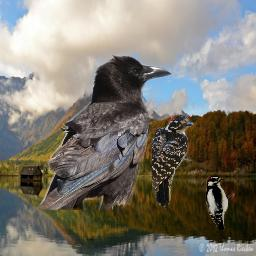Crow: (37, 54, 173, 210)
Woodpecker: (152, 113, 194, 210), (206, 176, 235, 231)
